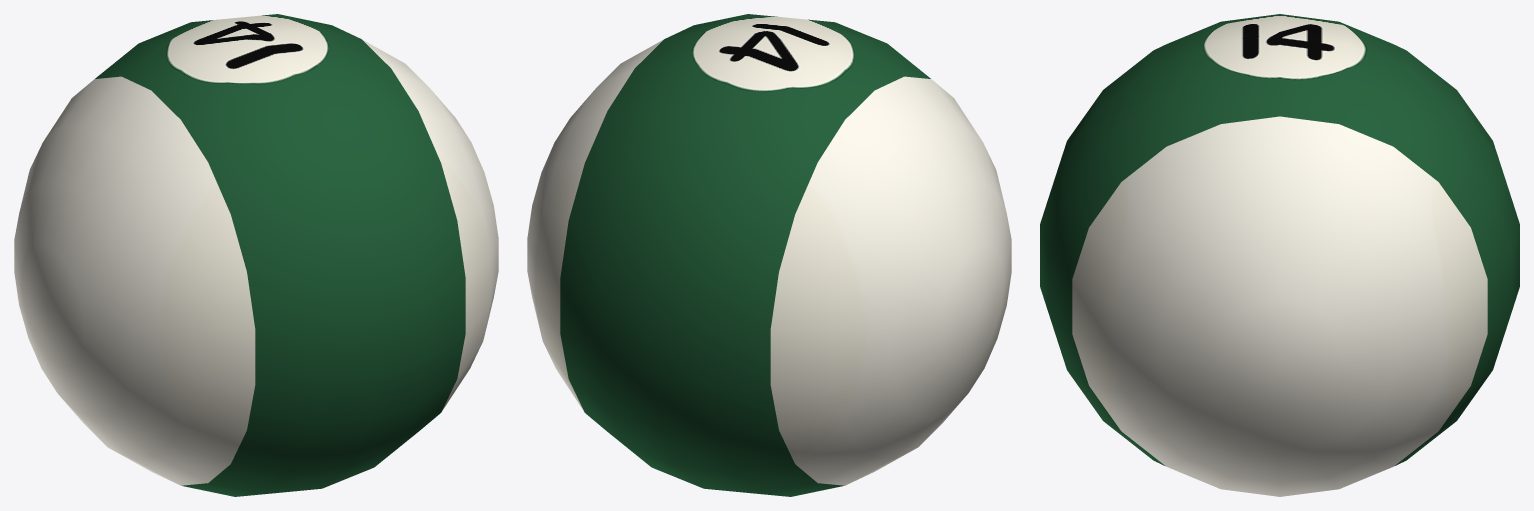
Rendered from Pool_Ball_14.fbx.
The picture shows the model from 3 angles, left to right: view 1: azimuth 30°, elevation 25°; view 2: azimuth 150°, elevation 25°; view 3: azimuth 270°, elevation 25°; orthographic projection.
Parts seen in each view (by area): view 1: Pool_Ball_14; view 2: Pool_Ball_14; view 3: Pool_Ball_14.
Part boxes in pixels (x1=…): Pool_Ball_14: x1=14, y1=14, x2=498, y2=496; Pool_Ball_14: x1=527, y1=14, x2=1011, y2=496; Pool_Ball_14: x1=1040, y1=14, x2=1519, y2=496.
Size of the model in its own units: 0.051 by 0.051 by 0.0505.
